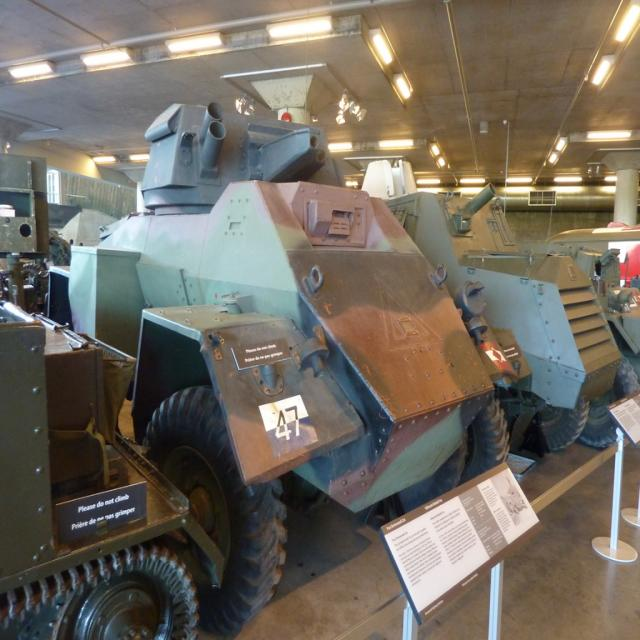tank: (46, 101, 495, 639), (360, 121, 621, 484), (0, 298, 226, 639), (515, 220, 639, 450)
